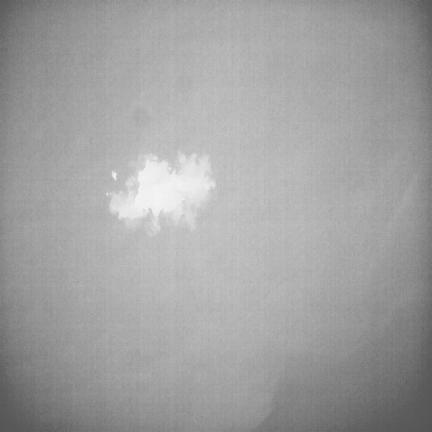flukeprints: (107, 153, 215, 233), (111, 171, 117, 180)
